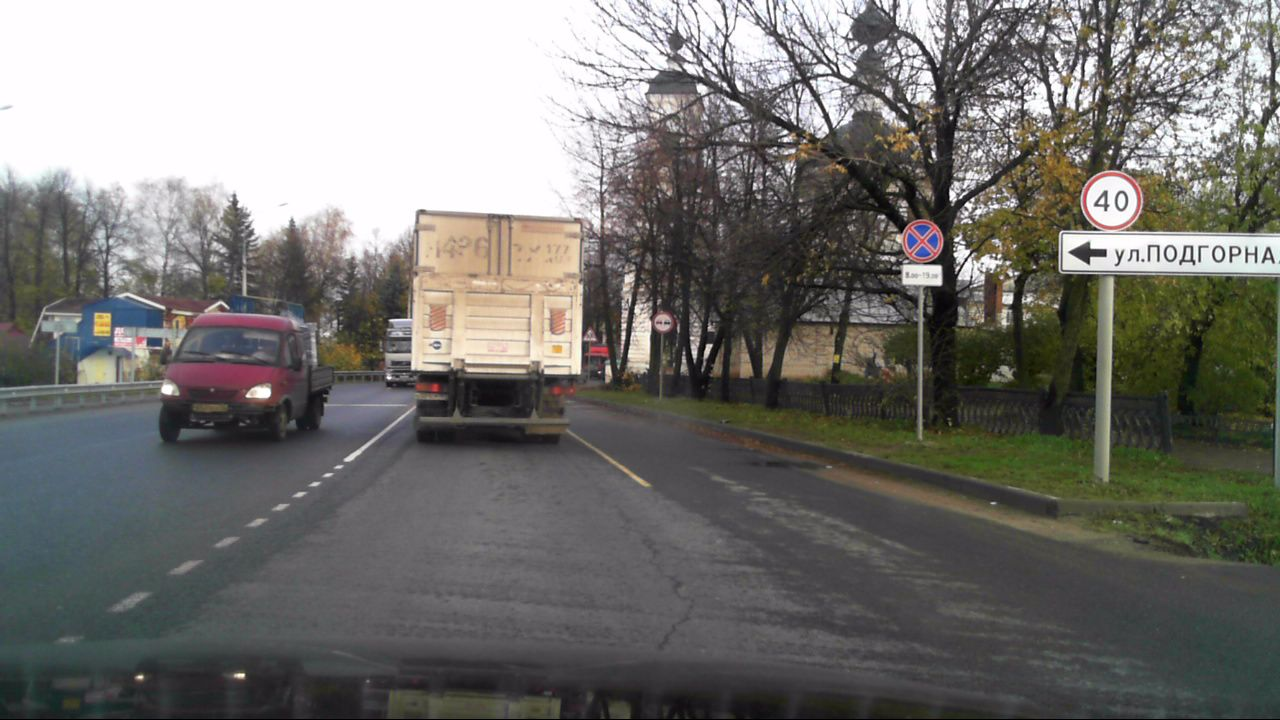No Parking: (902, 219, 944, 263)
speed_warning_40: (1081, 170, 1144, 231)
